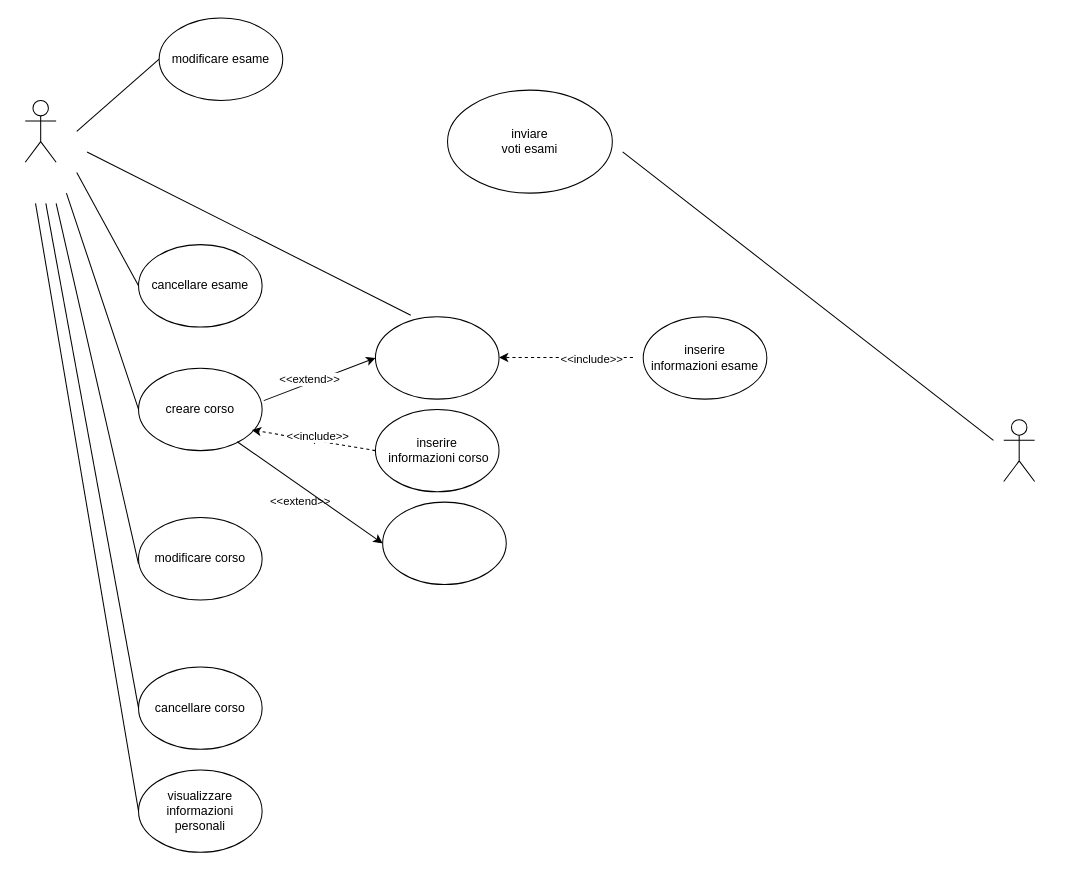
Some shapes in this 1065 by 870 pixel diagram are drawn without their labels. Each missing label, with the centre of its shape:
"creare esame" goes at pixel 436 357.
"Docente" goes at pixel 40 130.
"inserire co-docente" goes at pixel 444 543.
"Segreteria" goes at pixel 1019 450.
